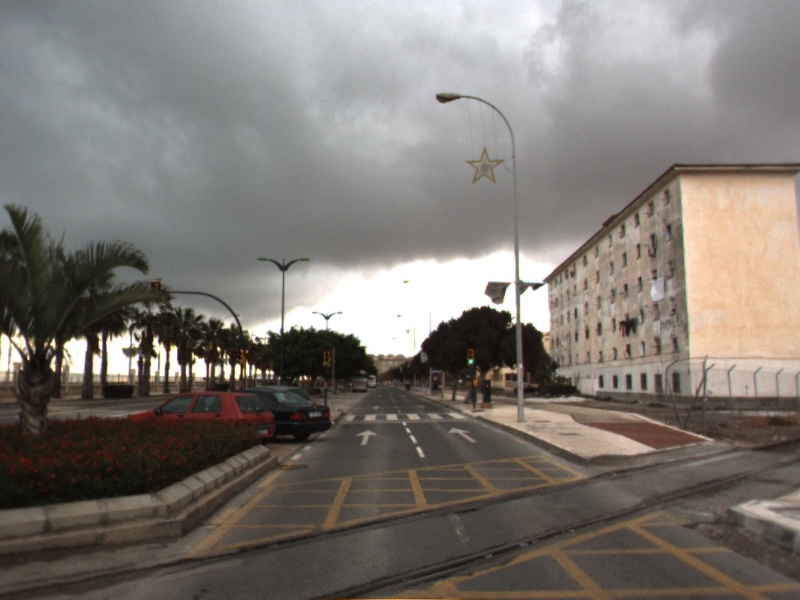STRAIGHT: (446, 425, 480, 445), (354, 428, 380, 447)
